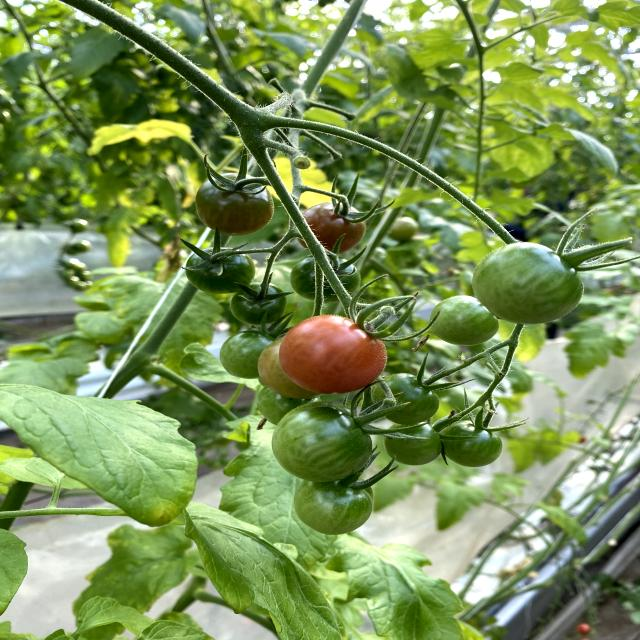ripe0: (472, 237, 585, 323), (271, 401, 372, 481), (294, 476, 374, 535), (371, 372, 439, 423), (185, 246, 255, 294), (441, 417, 503, 468), (430, 295, 488, 347), (385, 420, 441, 466), (230, 283, 287, 325)
ripe1: (298, 199, 368, 253)
ripe2: (279, 314, 388, 394)
